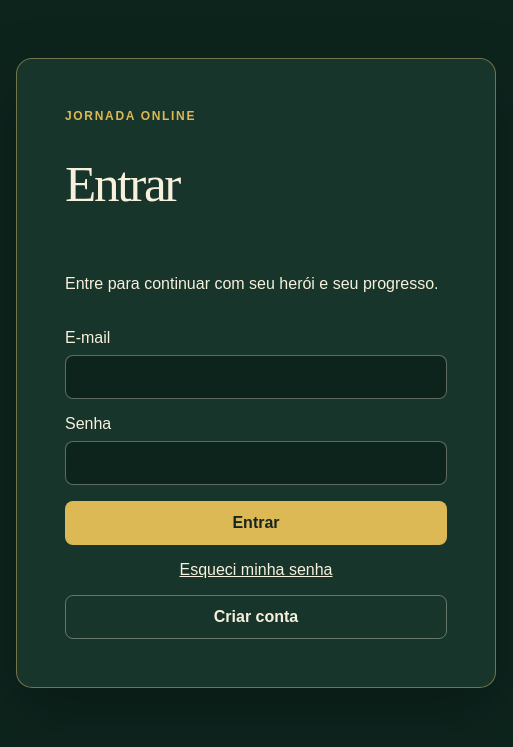
it: Auth sign in contract › does not accept login without a persisted SDK session
Type "teste@example.com" into the field labelled "E-mail".
click(256, 377); type("teste@example.com")  # box [65,355,447,399]
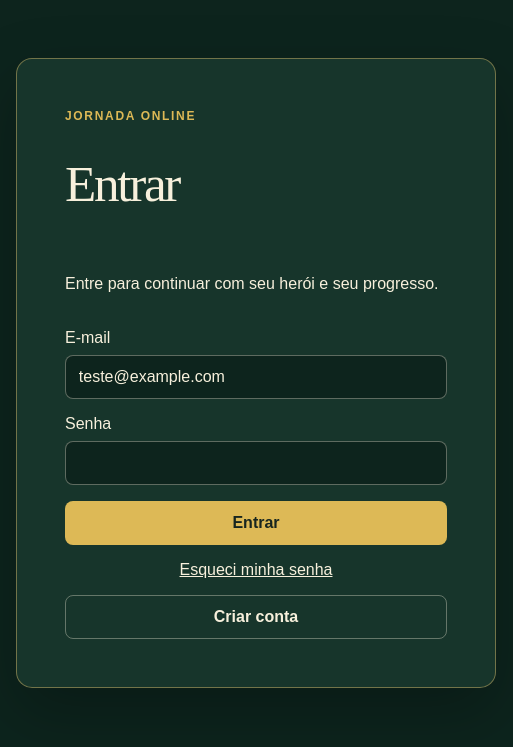
Type "senha-segura" into the password field labelled "Senha".
click(256, 463); type("senha-segura")  # box [65,441,447,485]
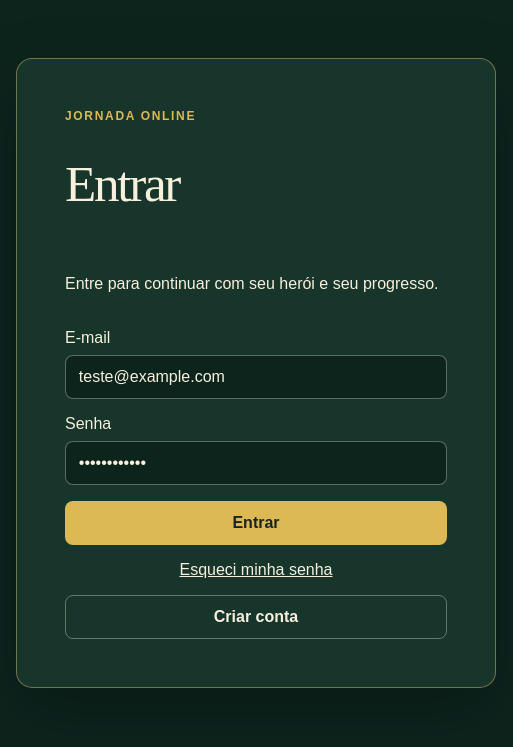
Click the button "Entrar".
click(256, 523)  # box [65,501,447,545]
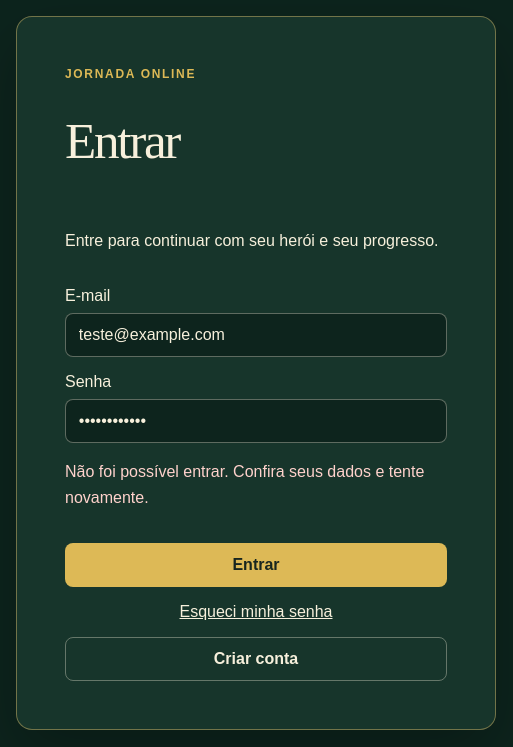
expect the message "Não foi possível entrar. Confira seus dados e tente novamente." is shown: met, box [65,459,447,511]
